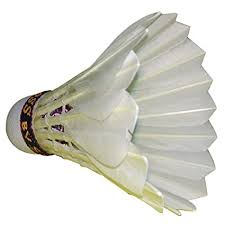shuttle: (7, 7, 217, 219)
